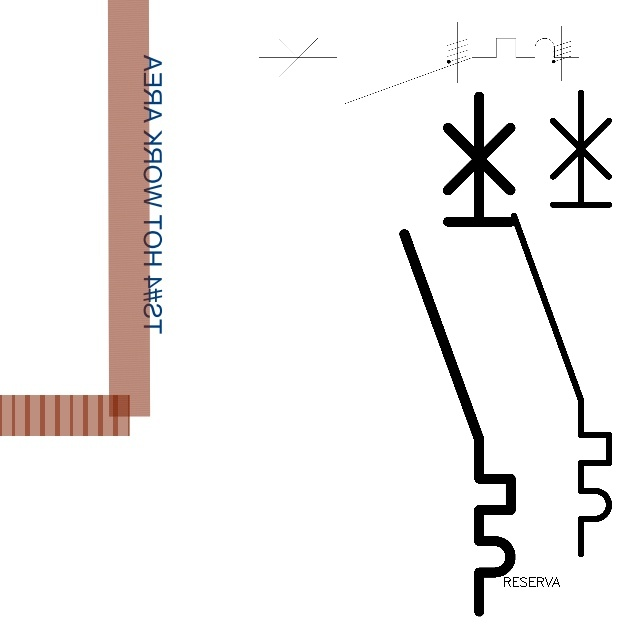interruptor_termomagnetico: (391, 83, 524, 625), (502, 80, 621, 565), (251, 30, 587, 112)
